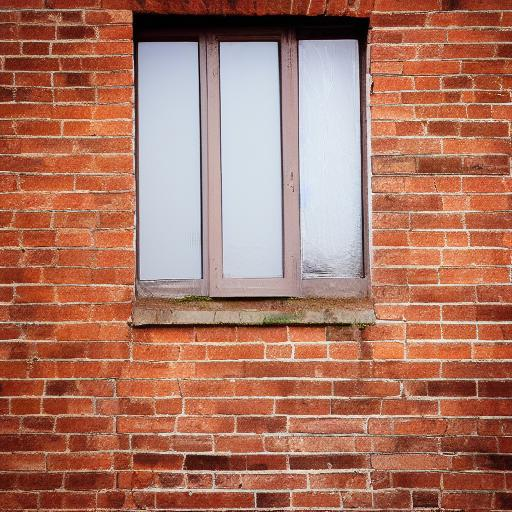Window: (130, 12, 379, 330)
